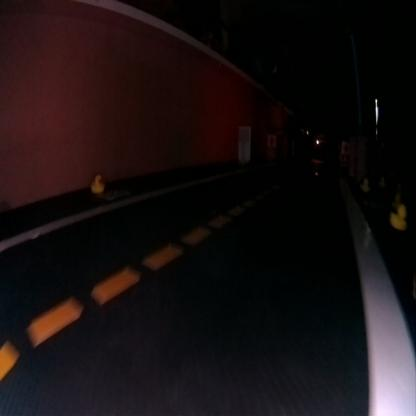Duckie: (389, 204, 406, 230), (92, 174, 104, 192)
